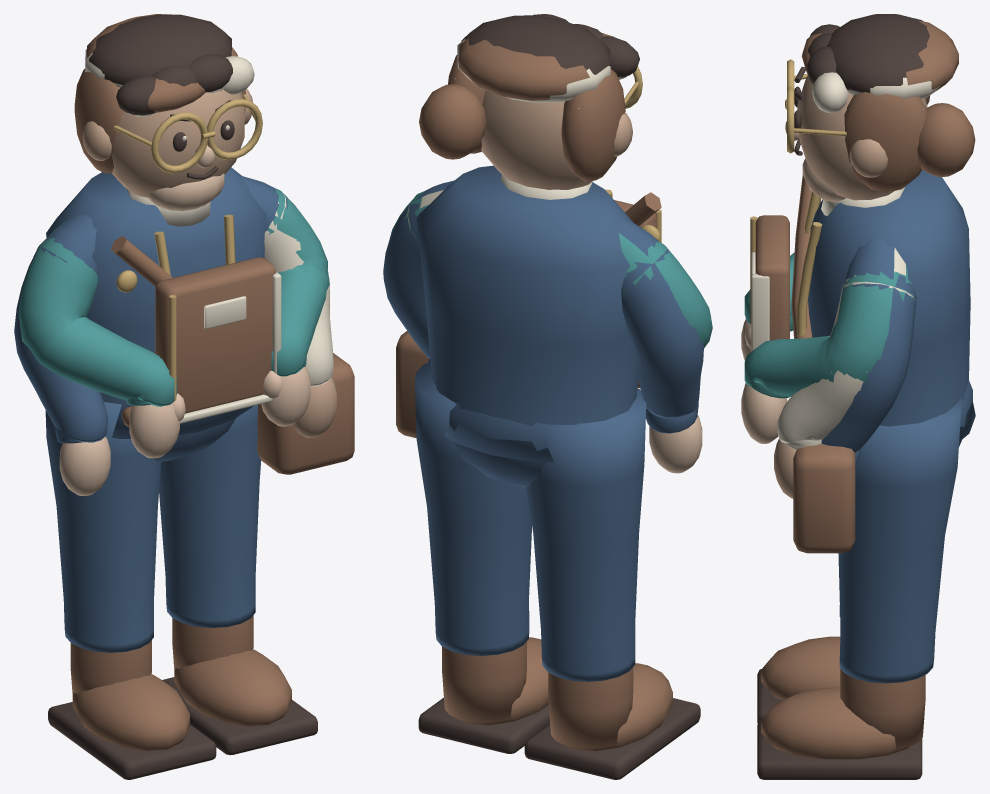
Rendered from world08-scholars-v1.glb.
3 views of the same model, side by side, from view 1: azimuth 30°, elevation 25°; view 2: azimuth 150°, elevation 25°; view 3: azimuth 270°, elevation 25° (orthographic). The views are drawn at different scales.
Visible parts, largest first — view 1: observatory-scholar-astronomer-navy, observatory-scholar-astronomer-leather, waisted-short-outerwear, observatory-scholar-recorder-body-leather, single-soft-cloth-sleeve-L.001, observatory-scholar-astronomer-head-hair-dark, observatory-scholar-researcher-head-skin-tan, observatory-scholar-astronomer-hair-dark, observatory-scholar-researcher-body-leather, single-soft-cloth-sleeve-L, single-soft-cloth-sleeve-R.001, observatory-scholar-recorder-head-leather (+13 smaller); view 2: observatory-scholar-astronomer-navy, waisted-short-outerwear, observatory-scholar-astronomer-leather, observatory-scholar-recorder-head-leather, single-soft-cloth-sleeve-L, observatory-scholar-astronomer-hair-dark, observatory-scholar-researcher-head-skin-tan, observatory-scholar-astronomer-head-hair-dark, single-soft-cloth-sleeve-R, single-soft-cloth-sleeve-L.001, observatory-scholar-researcher-body-leather, joined-hand-under-sleeve-L (+2 smaller); view 3: observatory-scholar-astronomer-navy, waisted-short-outerwear, observatory-scholar-astronomer-leather, observatory-scholar-recorder-head-leather, single-soft-cloth-sleeve-R.001, observatory-scholar-researcher-body-leather, observatory-scholar-astronomer-head-hair-dark, single-soft-cloth-sleeve-R, observatory-scholar-researcher-head-skin-tan, observatory-scholar-astronomer-hair-dark, single-soft-cloth-sleeve-R.002, observatory-scholar-recorder-body-leather (+9 smaller).
Part boxes in pixels (left/top/right/bottom): observatory-scholar-astronomer-navy: left=45, top=402, right=261, bottom=652; observatory-scholar-astronomer-leather: left=70, top=615, right=291, bottom=751; waisted-short-outerwear: left=46, top=167, right=266, bottom=439; observatory-scholar-recorder-body-leather: left=124, top=257, right=276, bottom=416; single-soft-cloth-sleeve-L.001: left=18, top=217, right=176, bottom=406; observatory-scholar-astronomer-head-hair-dark: left=89, top=14, right=234, bottom=179; observatory-scholar-researcher-head-skin-tan: left=82, top=89, right=252, bottom=197; observatory-scholar-astronomer-hair-dark: left=48, top=677, right=317, bottom=779; observatory-scholar-researcher-body-leather: left=111, top=236, right=354, bottom=474; single-soft-cloth-sleeve-L: left=14, top=214, right=107, bottom=443; single-soft-cloth-sleeve-R.001: left=267, top=188, right=329, bottom=376; observatory-scholar-recorder-head-leather: left=74, top=14, right=245, bottom=173; observatory-scholar-astronomer-navy: left=414, top=361, right=646, bottom=681; waisted-short-outerwear: left=416, top=165, right=638, bottom=462; observatory-scholar-astronomer-leather: left=442, top=637, right=672, bottom=751; observatory-scholar-recorder-head-leather: left=419, top=32, right=625, bottom=181; single-soft-cloth-sleeve-L: left=618, top=217, right=703, bottom=433; observatory-scholar-astronomer-hair-dark: left=418, top=697, right=700, bottom=779; observatory-scholar-researcher-head-skin-tan: left=481, top=90, right=632, bottom=189; observatory-scholar-astronomer-head-hair-dark: left=461, top=14, right=639, bottom=77; single-soft-cloth-sleeve-R: left=383, top=180, right=454, bottom=361; single-soft-cloth-sleeve-L.001: left=618, top=233, right=712, bottom=347; observatory-scholar-researcher-body-leather: left=396, top=192, right=661, bottom=438; joined-hand-under-sleeve-L: left=649, top=415, right=702, bottom=473; observatory-scholar-astronomer-navy: left=838, top=381, right=972, bottom=683; waisted-short-outerwear: left=808, top=169, right=975, bottom=441; observatory-scholar-astronomer-leather: left=761, top=626, right=925, bottom=759; observatory-scholar-recorder-head-leather: left=801, top=20, right=975, bottom=191; single-soft-cloth-sleeve-R.001: left=744, top=265, right=916, bottom=398; observatory-scholar-researcher-body-leather: left=791, top=174, right=855, bottom=553; observatory-scholar-astronomer-head-hair-dark: left=794, top=14, right=929, bottom=155; single-soft-cloth-sleeve-R: left=821, top=239, right=916, bottom=465; observatory-scholar-researcher-head-skin-tan: left=785, top=75, right=927, bottom=201; observatory-scholar-astronomer-hair-dark: left=757, top=669, right=922, bottom=779; single-soft-cloth-sleeve-R.002: left=777, top=248, right=915, bottom=449; observatory-scholar-recorder-body-leather: left=755, top=215, right=789, bottom=340.
Size of the model in its own units: 1.05 by 2.26 by 0.682.
